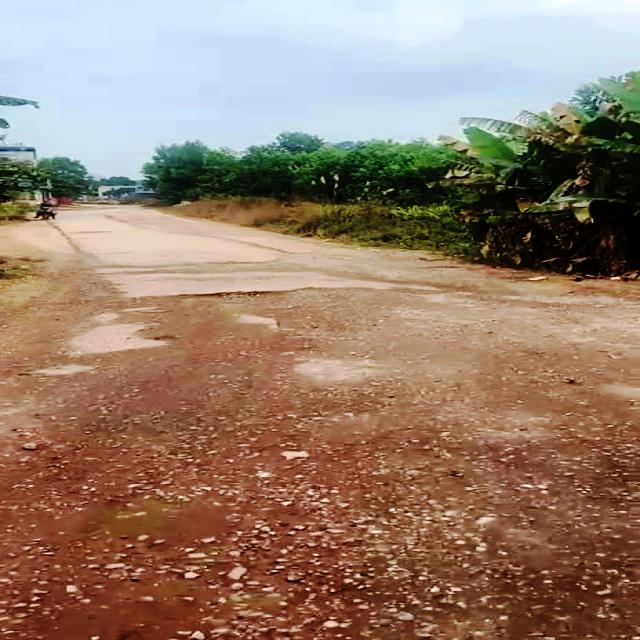pothole: (0, 481, 254, 640)
